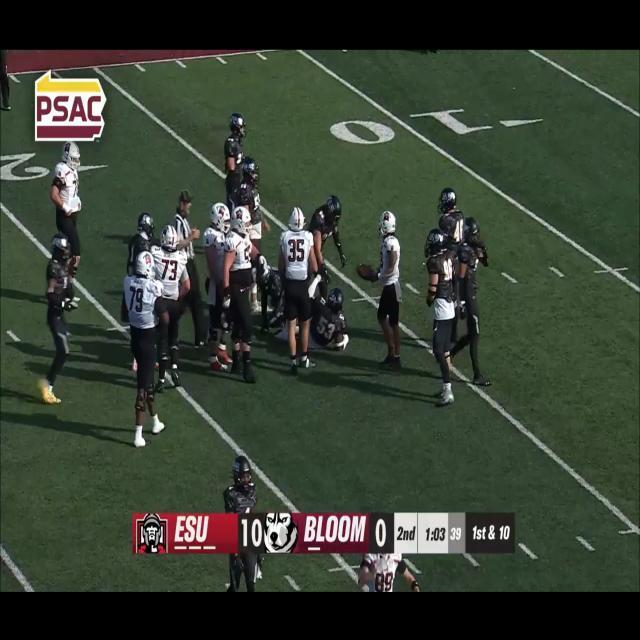football: (355, 262, 379, 282)
